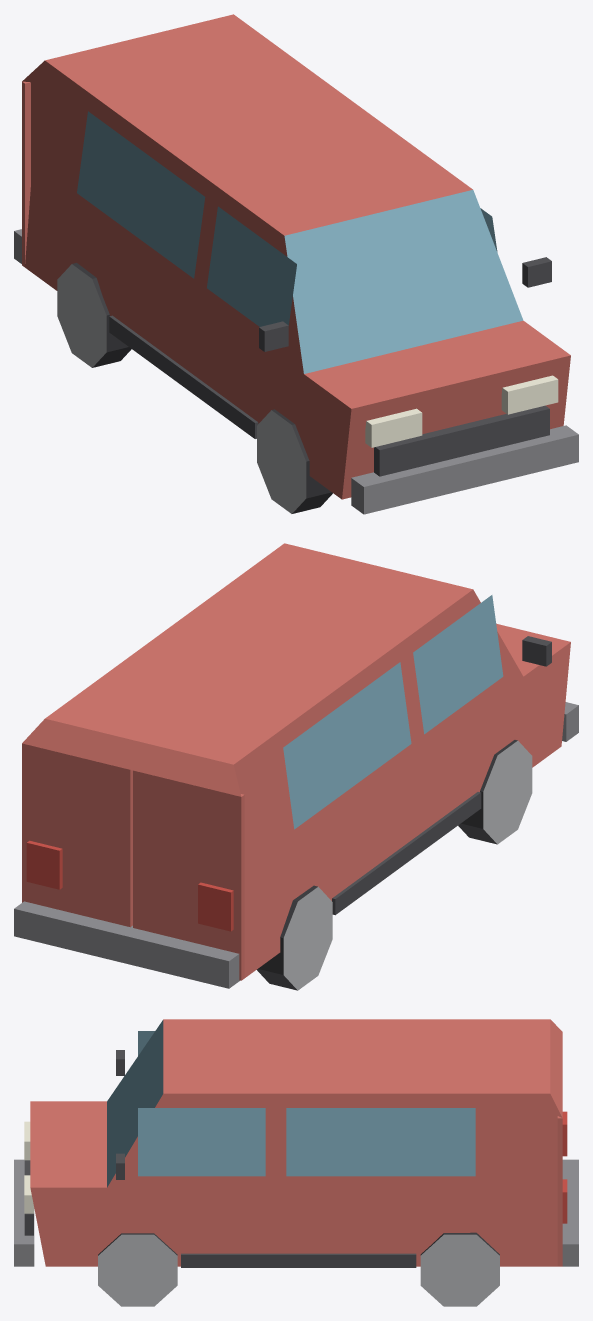
The model's file is van.glb.
The picture shows the model from 3 angles, top to bottom: view 1: azimuth 30°, elevation 25°; view 2: azimuth 150°, elevation 25°; view 3: azimuth 270°, elevation 25°; orthographic projection. The views are drawn at different scales.
Parts seen in each view (by area): view 1: Van_Body, Van_Window_Rear_L, Van_Bumper_Front, Van_Window_Front_L, Van_Grille, Van_Wheel_FL, Van_Wheel_RL, Van_Skirt_L, Van_Headlight_L, Van_Headlight_R, Van_Door_Rear_L, Van_Mirror_R (+1 smaller); view 2: Van_Body, Van_Door_Rear_L, Van_Door_Rear_R, Van_Window_Rear_L, Van_Bumper_Rear, Van_Window_Front_L, Van_Wheel_RL, Van_Wheel_FL, Van_Skirt_L, Van_Taillight_R, Van_Taillight_L, Van_Mirror_L; view 3: Van_Body, Van_Window_Rear_R, Van_Window_Front_R, Van_Wheel_RR, Van_Wheel_FR, Van_Skirt_R, Van_Bumper_Rear, Van_Bumper_Front, Van_Door_Rear_R.
Part boxes in pixels (left/top/right/bottom): Van_Body: left=22, top=14, right=570, bottom=499; Van_Window_Rear_L: left=77, top=111, right=205, bottom=278; Van_Bumper_Front: left=351, top=425, right=578, bottom=514; Van_Window_Front_L: left=207, top=206, right=296, bottom=326; Van_Grille: left=374, top=405, right=549, bottom=476; Van_Wheel_FL: left=257, top=409, right=332, bottom=513; Van_Wheel_RL: left=57, top=263, right=131, bottom=367; Van_Skirt_L: left=109, top=315, right=258, bottom=438; Van_Headlight_L: left=365, top=408, right=422, bottom=447; Van_Headlight_R: left=501, top=375, right=558, bottom=414; Van_Door_Rear_L: left=22, top=81, right=30, bottom=267; Van_Mirror_R: left=522, top=257, right=551, bottom=287; Van_Body: left=22, top=543, right=570, bottom=979; Van_Door_Rear_L: left=133, top=770, right=244, bottom=980; Van_Door_Rear_R: left=22, top=743, right=132, bottom=927; Van_Window_Rear_L: left=283, top=662, right=411, bottom=829; Van_Bumper_Rear: left=14, top=901, right=239, bottom=988; Van_Window_Front_L: left=413, top=595, right=503, bottom=734; Van_Wheel_RL: left=257, top=885, right=332, bottom=990; Van_Wheel_FL: left=458, top=740, right=532, bottom=844; Van_Skirt_L: left=332, top=792, right=481, bottom=915; Van_Taillight_R: left=26, top=840, right=62, bottom=889; Van_Taillight_L: left=198, top=882, right=233, bottom=931; Van_Mirror_L: left=522, top=636, right=551, bottom=666; Van_Body: left=30, top=1019, right=562, bottom=1266; Van_Window_Rear_R: left=286, top=1108, right=475, bottom=1176; Van_Window_Front_R: left=138, top=1108, right=265, bottom=1176; Van_Wheel_RR: left=420, top=1232, right=499, bottom=1306; Van_Wheel_FR: left=98, top=1233, right=177, bottom=1306; Van_Skirt_R: left=181, top=1253, right=416, bottom=1267; Van_Bumper_Rear: left=562, top=1159, right=578, bottom=1266; Van_Bumper_Front: left=14, top=1159, right=34, bottom=1266; Van_Door_Rear_R: left=557, top=1116, right=562, bottom=1266.
Bounding box in the file's own units: 3.27 × 2.77 × 6.9.
